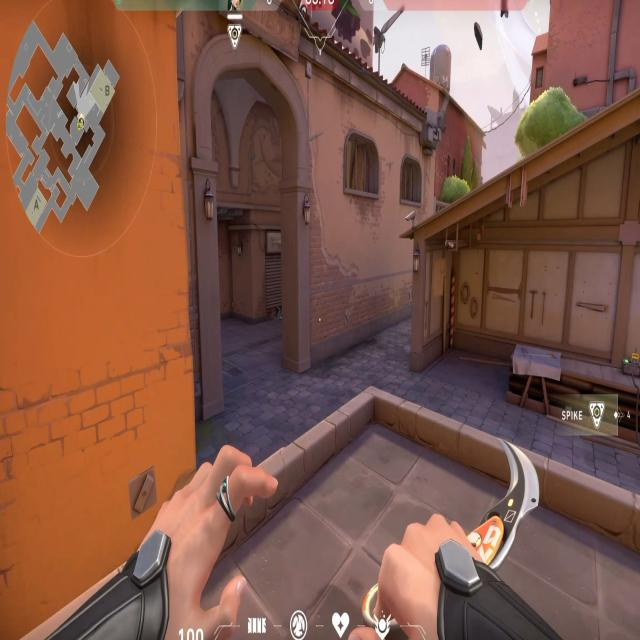B_Garage_Left: (414, 236, 563, 423)
Throwables: (343, 121, 384, 208), (396, 149, 426, 213)
